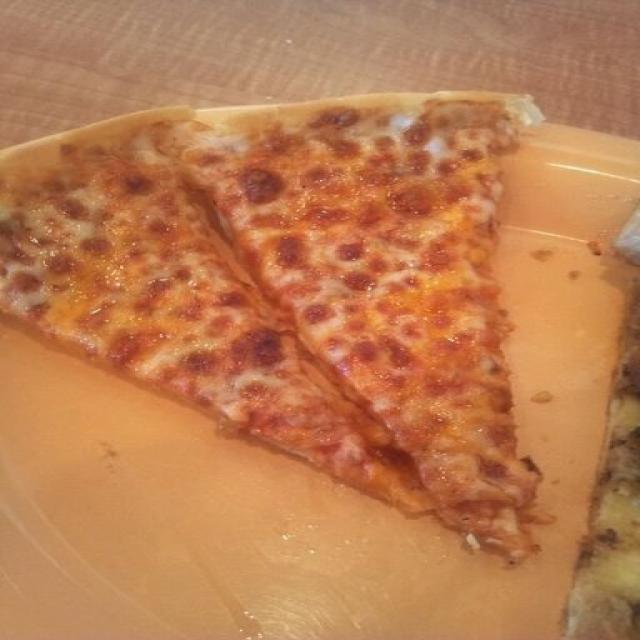Pizza: (0, 94, 527, 571)
